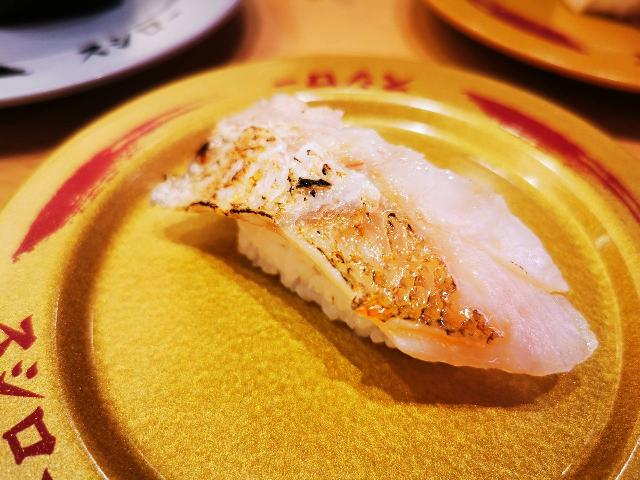jangold: (0, 149, 232, 480), (233, 373, 640, 480), (161, 30, 600, 105), (417, 0, 640, 98), (595, 72, 640, 388)
janwhite: (0, 4, 285, 91)
